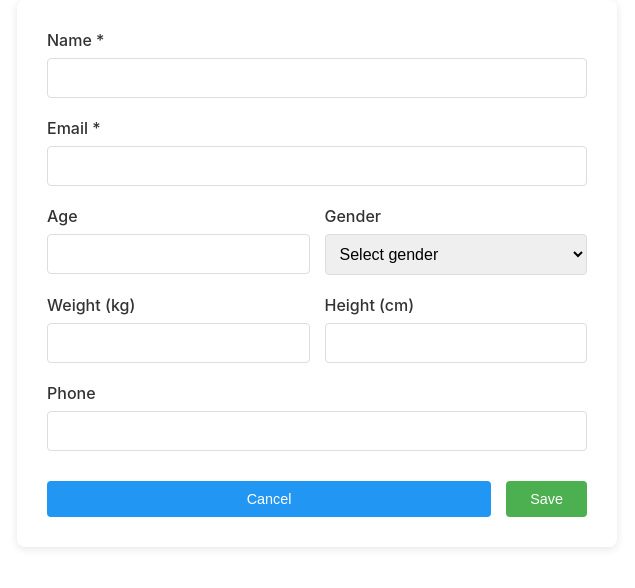
Scenario: UserForm Component › should show validation error for empty email
Type "John Doe" into the field labelled "Name *" at (317, 78), box [47, 58, 587, 98]
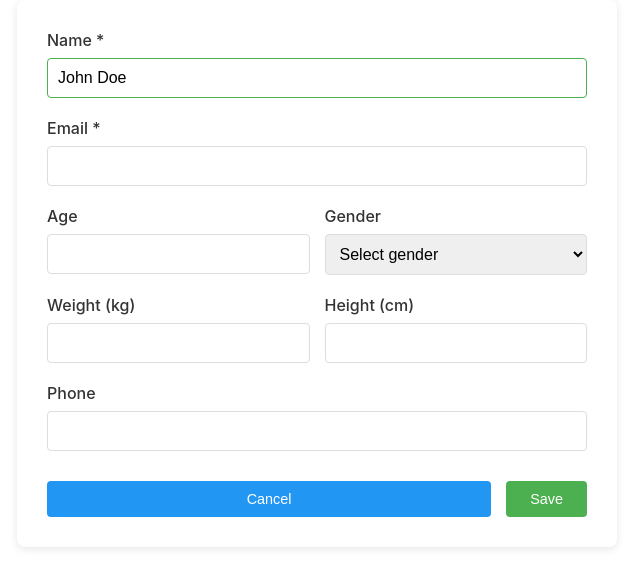
Click the button "Save" at (547, 499), box [506, 481, 587, 517]
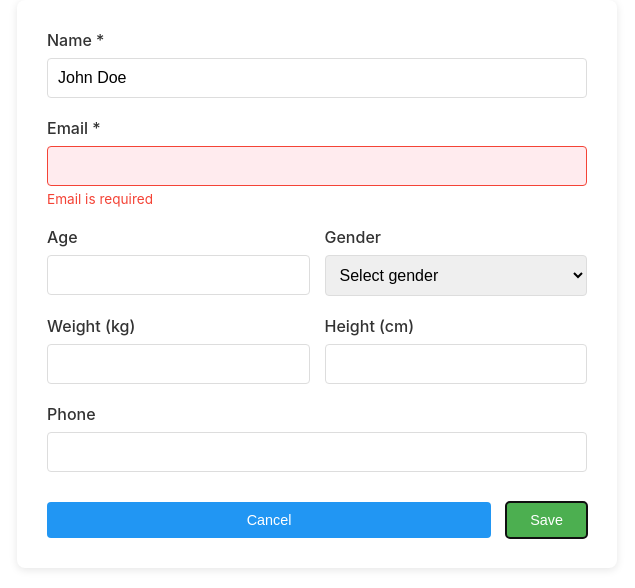
Check: the text "Email is required" is shown, box [47, 191, 153, 207]
